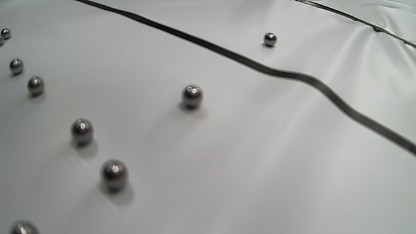ironball: (101, 159, 128, 193), (71, 118, 93, 146), (182, 84, 203, 108), (10, 221, 39, 234), (27, 76, 44, 96), (9, 58, 23, 75), (263, 32, 277, 47), (0, 27, 11, 39), (0, 35, 3, 45)
